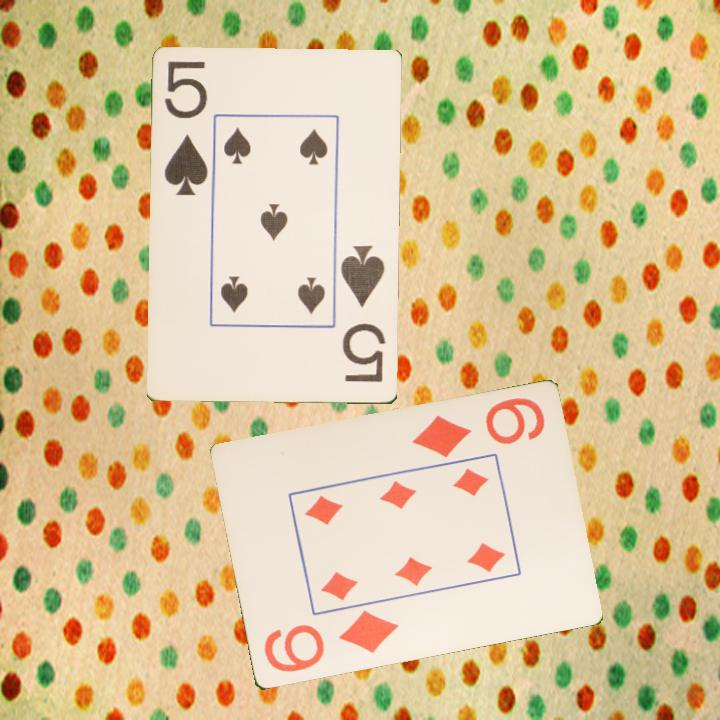5s: (337, 242, 389, 386), (161, 58, 212, 200)
6d: (260, 607, 402, 676), (408, 394, 547, 461)
